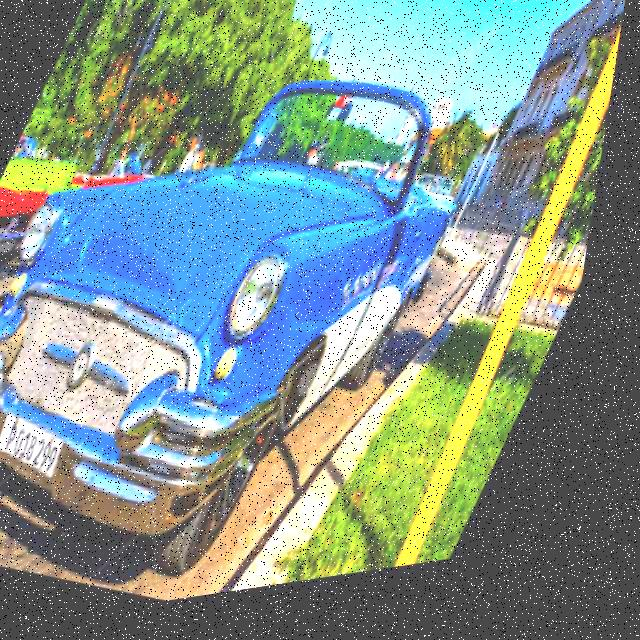license_plate: (0, 397, 99, 493)
